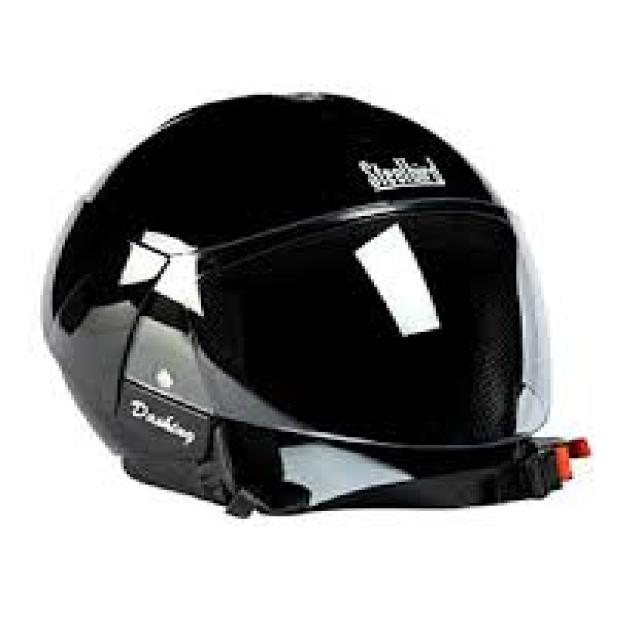Helmet: (47, 95, 585, 516)
